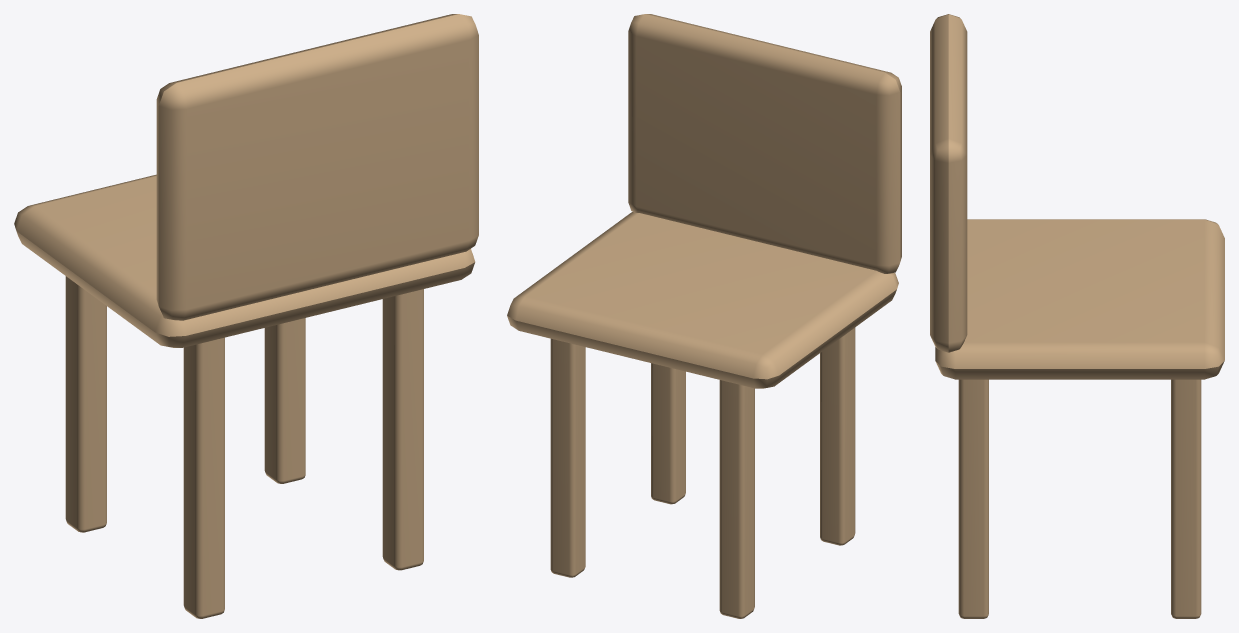
The model's file is ikea_nammaro_chair_70510343.glb.
3 renders of one model, left to right at view 1: azimuth 30°, elevation 25°; view 2: azimuth 150°, elevation 25°; view 3: azimuth 270°, elevation 25°, orthographic. The views are drawn at different scales.
Visible parts, largest first — view 1: back.010, seat.009, leg.052, leg.054, leg.053, leg.055; view 2: back.010, seat.009, leg.055, leg.053, leg.052, leg.054; view 3: seat.009, back.010, leg.054, leg.055.
Boxes of the visible parts, x1=… form: back.010: x1=156, y1=14, x2=478, y2=320; seat.009: x1=14, y1=174, x2=475, y2=347; leg.052: x1=183, y1=337, x2=224, y2=618; leg.054: x1=382, y1=289, x2=423, y2=570; leg.053: x1=65, y1=276, x2=106, y2=532; leg.055: x1=264, y1=318, x2=305, y2=483; back.010: x1=628, y1=14, x2=901, y2=273; seat.009: x1=507, y1=212, x2=898, y2=388; leg.055: x1=550, y1=338, x2=585, y2=577; leg.053: x1=719, y1=380, x2=754, y2=618; leg.052: x1=820, y1=327, x2=855, y2=545; leg.054: x1=651, y1=363, x2=685, y2=504; seat.009: x1=935, y1=219, x2=1224, y2=379; back.010: x1=930, y1=14, x2=967, y2=352; leg.054: x1=958, y1=379, x2=988, y2=618; leg.055: x1=1171, y1=379, x2=1201, y2=618.
Size of the model in its own units: 0.49 by 0.81 by 0.4375.
